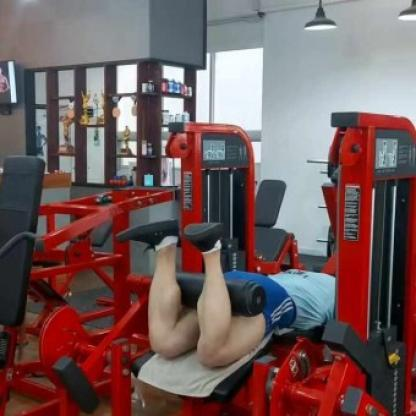reg curl machine: (107, 118, 360, 416)
